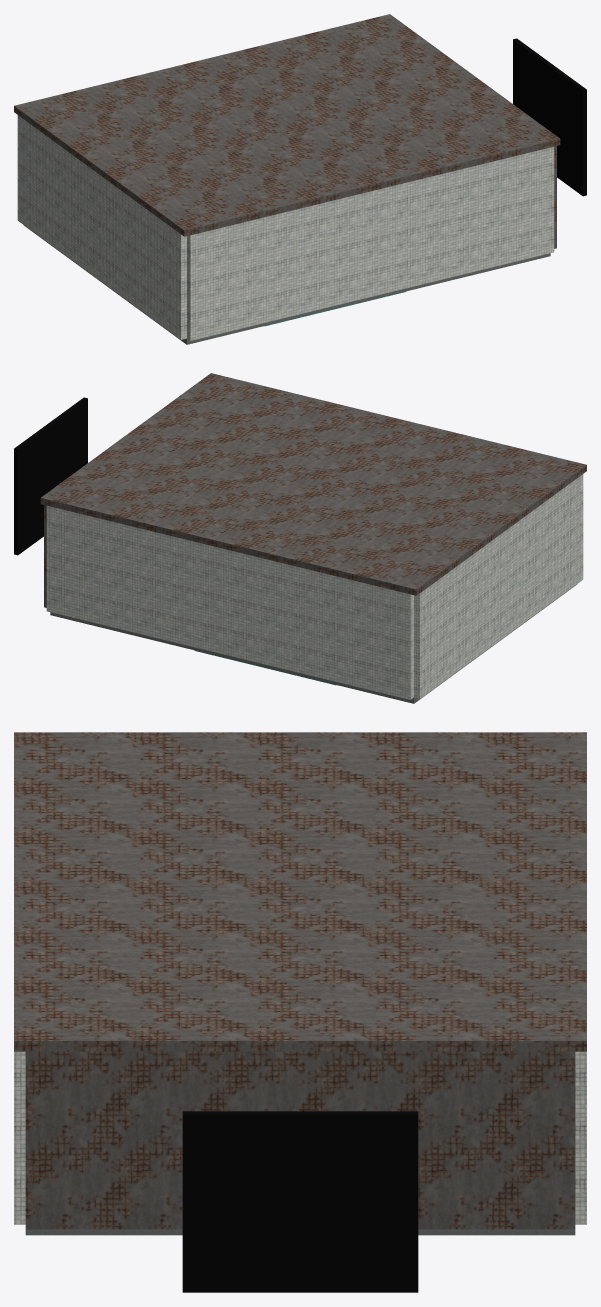
Rendered from vasca_arrivo.gltf.
3 views of the same model, one above another, from view 1: azimuth 30°, elevation 25°; view 2: azimuth 150°, elevation 25°; view 3: azimuth 270°, elevation 25° (orthographic). The views are drawn at different scales.
Visible parts, largest first — view 1: VASCA_struttura; view 2: VASCA_struttura; view 3: VASCA_struttura.
Boxes of the visible parts, <box> form: VASCA_struttura: <box>14,14,586,344</box>; VASCA_struttura: <box>14,373,586,703</box>; VASCA_struttura: <box>14,732,586,1292</box>.
Size of what is drawn, in the model's own units: 22.4 by 6.7 by 14.6.
